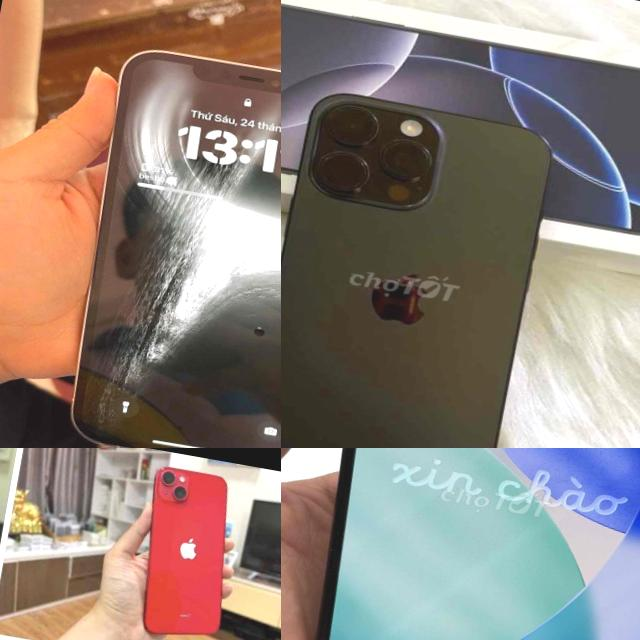gen_12_13: (46, 39, 281, 448)
gen_15: (281, 448, 640, 640)
gen_16: (281, 68, 591, 448)
